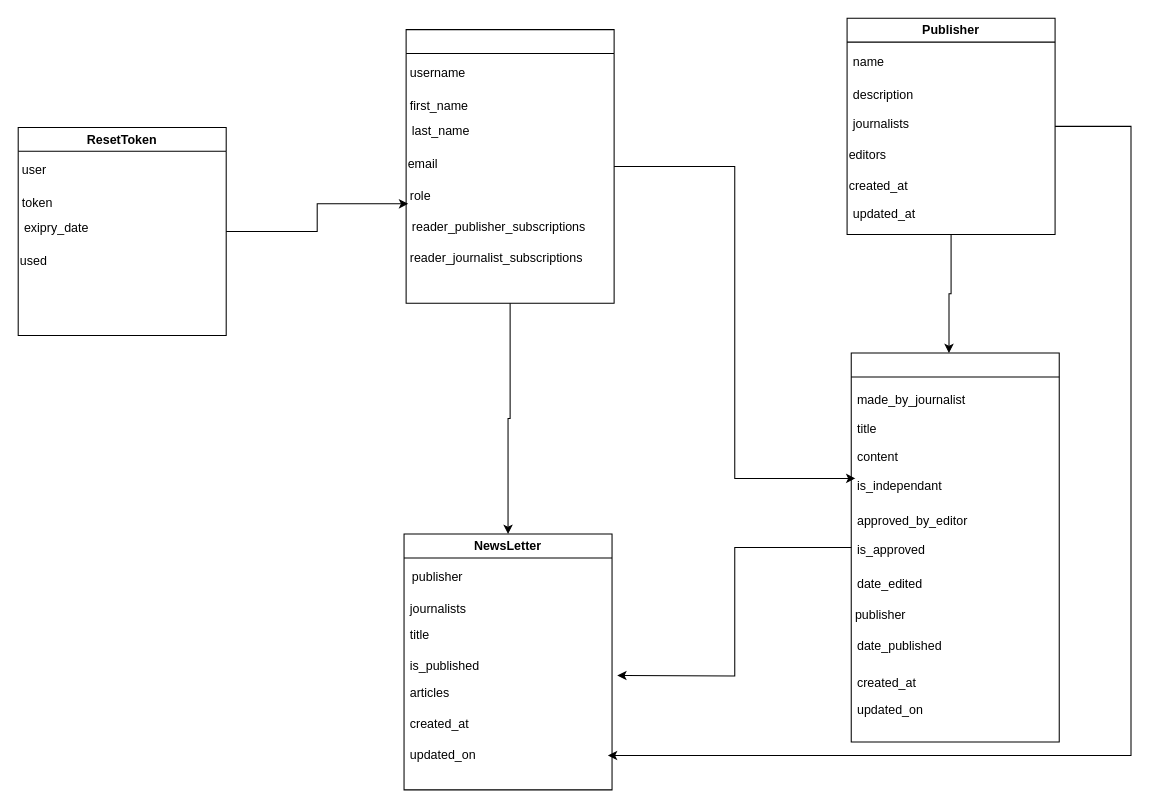
The diagram is 1158 pixels wide and 808 high, and some of its shapes have lost their labels. Here are the shapes that lost their labels. From the top down, the box of each, then its label:
(405, 29, 614, 303): CustomUser
(850, 352, 1059, 742): Article
